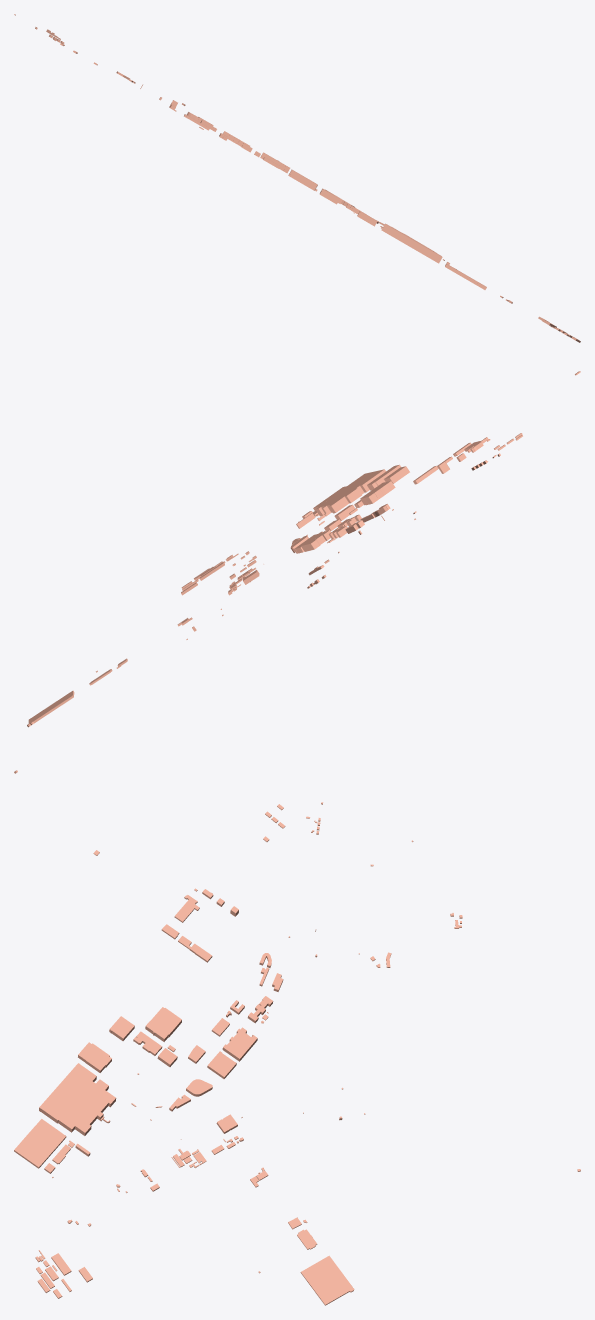
The picture shows the model from 3 angles, top to bottom: view 1: azimuth 30°, elevation 25°; view 2: azimuth 150°, elevation 25°; view 3: azimuth 270°, elevation 25°; orthographic projection. The views are drawn at different scales.
Bounding box in the file's own units: 1930 × 1467 × 2394.
